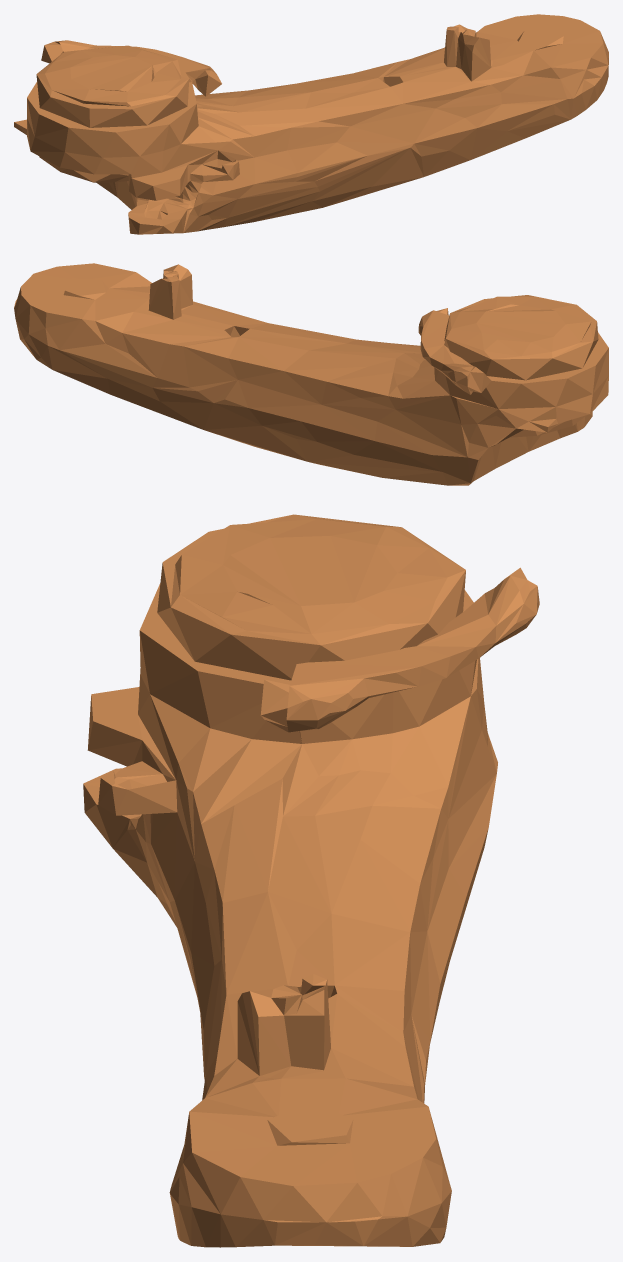
File: like_kr240r2900_link_2.glb
3 renders of one model, top to bottom at view 1: azimuth 30°, elevation 25°; view 2: azimuth 150°, elevation 25°; view 3: azimuth 270°, elevation 25°, orthographic. The views are drawn at different scales.
Parts seen in each view (by area): view 1: world; view 2: world; view 3: world.
Boxes of the visible parts, left/top/right/bottom form: world: left=14, top=14, right=608, bottom=234; world: left=14, top=263, right=608, bottom=485; world: left=83, top=514, right=539, bottom=1247.
Bounding box in the file's own units: 1.93 × 0.5586 × 0.6789.
